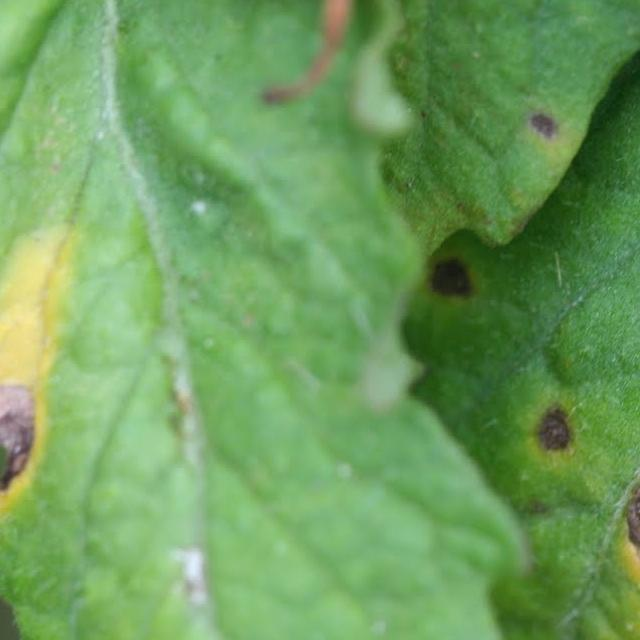Tomato leaf late blight: (0, 0, 563, 640), (342, 0, 640, 640)
